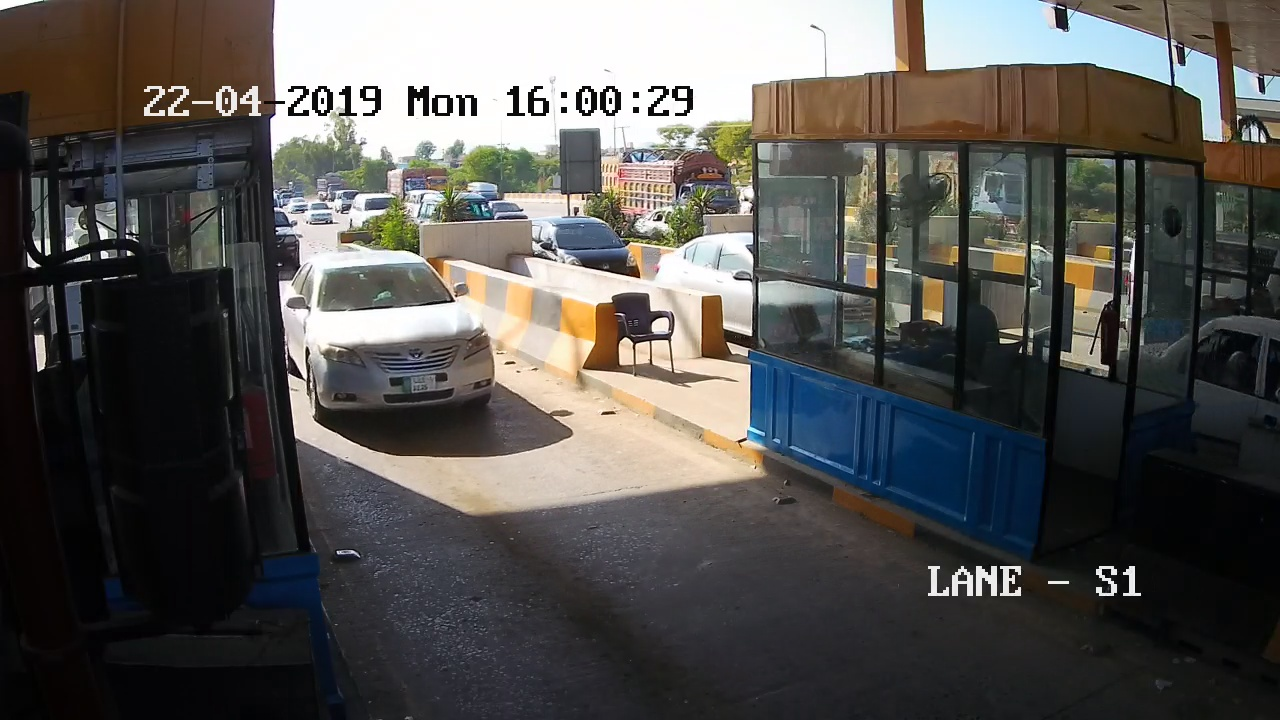car: (284, 254, 508, 433)
